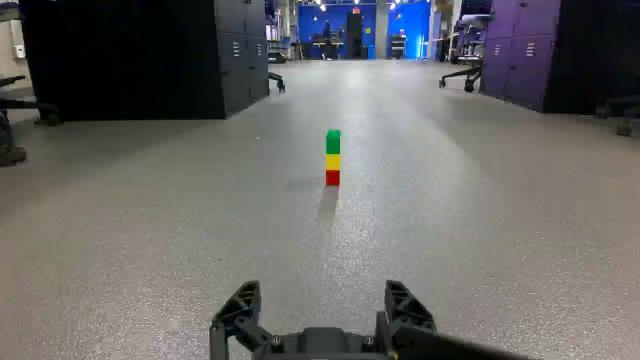lego: (326, 131, 342, 189)
